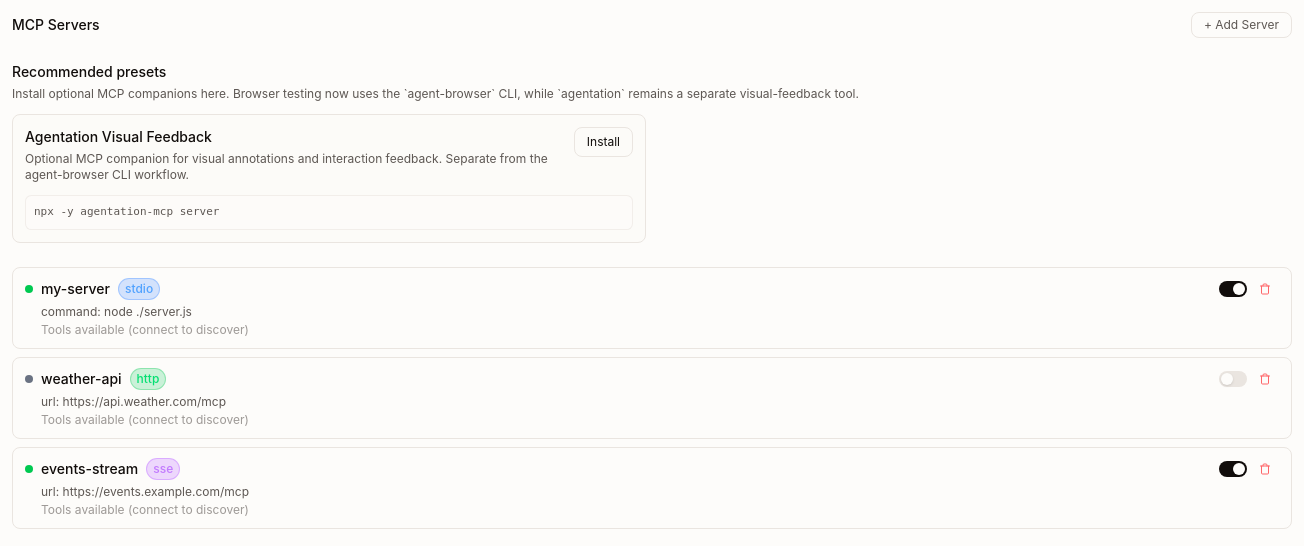
Test case: McpPanel › delete shows confirmation
Click the button with test id "mcp-delete-btn-my-server" at [1265, 288], box [1251,280,1279,296]
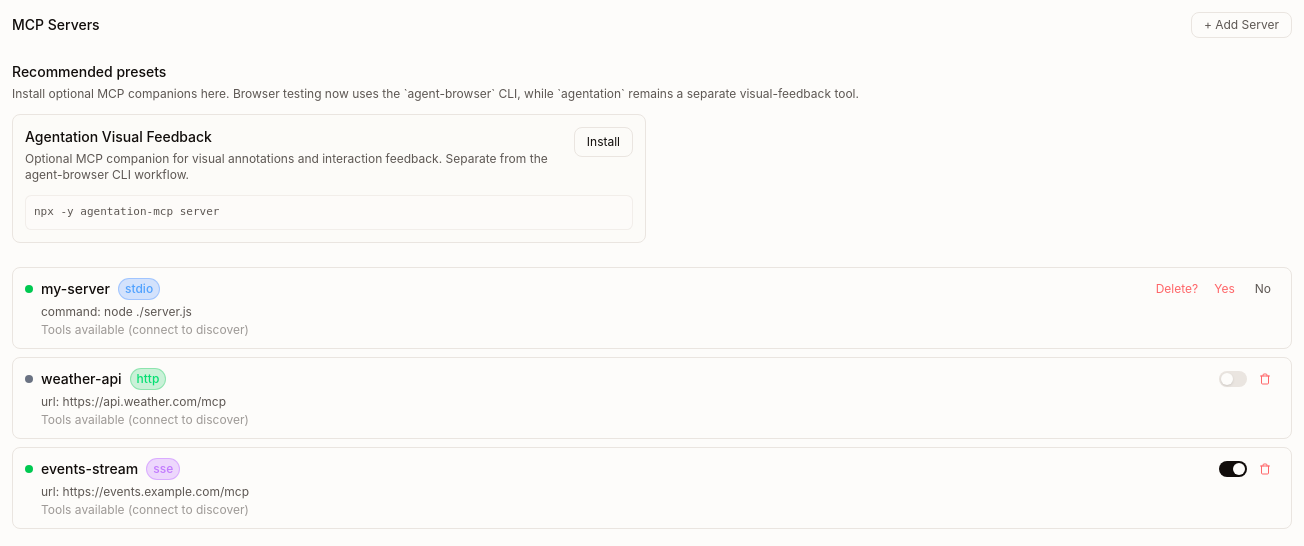
Expected: the button with test id "mcp-delete-confirm-my-server" is shown, [1206,278,1243,298]
